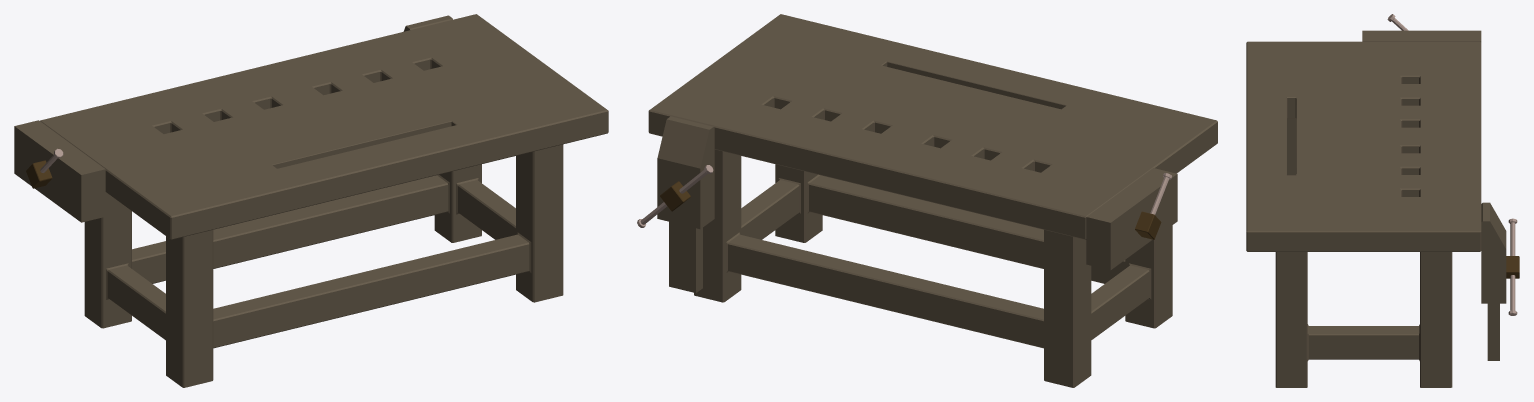
File: banco-carpinteria_lowpoly.fbx
The picture shows the model from 3 angles, left to right: view 1: azimuth 30°, elevation 25°; view 2: azimuth 150°, elevation 25°; view 3: azimuth 270°, elevation 25°; orthographic projection. The views are drawn at different scales.
Parts seen in each view (by area): view 1: Cube.005, Cube.008; view 2: Cube.005, Cube.006, Cube.008, Cube.009, Cube.007; view 3: Cube.005, Cube.006, Cube.008, Cube.007, Cylinder.006.
Boxes of the visible parts, x1,y1,x2,y2 form: Cube.005: (40,14,608,387); Cube.008: (14,120,105,222); Cube.005: (648,14,1217,387); Cube.006: (657,116,714,292); Cube.008: (1086,168,1177,270); Cube.009: (1135,211,1161,239); Cube.007: (660,181,690,211); Cube.005: (1246,41,1481,387); Cube.006: (1481,202,1506,360); Cube.008: (1362,30,1481,41); Cube.007: (1506,256,1519,278); Cylinder.006: (1508,275,1517,315).
Bounding box in the file's own units: 820 × 338 × 459.
